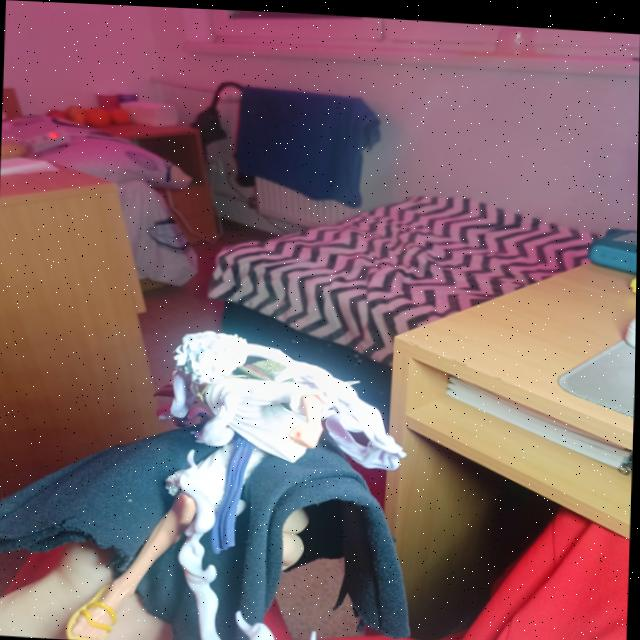luffy: (0, 287, 431, 640)
